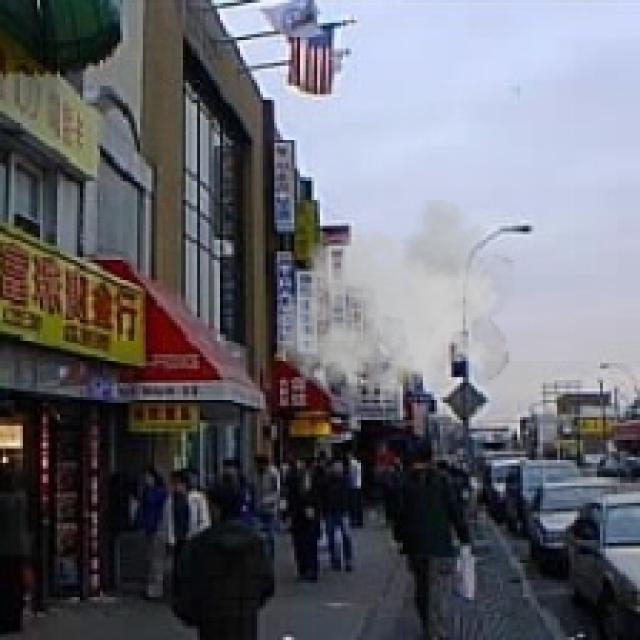Smoke: (274, 200, 514, 420)
